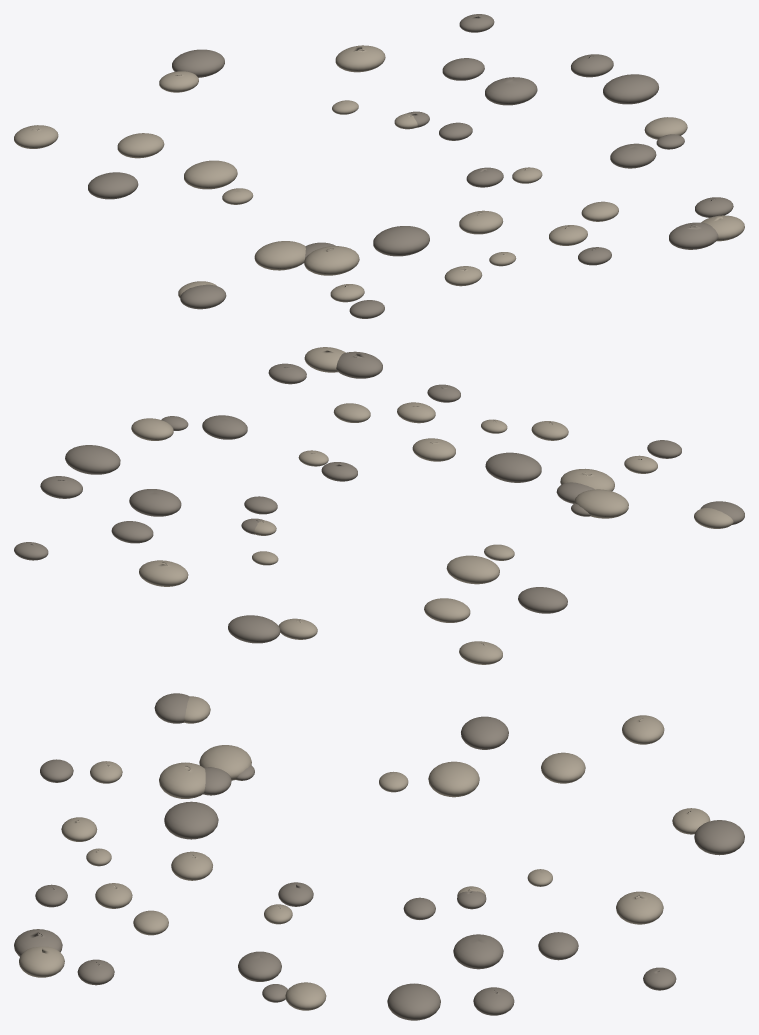
Rendered from f22-shingle-scatter.glb.
3 renders of one model, top to bottom at view 1: azimuth 30°, elevation 25°; view 2: azimuth 150°, elevation 25°; view 3: azimuth 270°, elevation 25°, orthographic. The views are drawn at different scales.
Parts seen in each view (by area): view 1: part1, part0; view 2: part1, part0; view 3: part1, part0.
Part boxes in pixels (<box>): part1: <box>88,14,733,318</box>; part0: <box>14,45,744,302</box>; part1: <box>14,351,744,643</box>; part0: <box>131,347,733,664</box>; part1: <box>14,693,744,1020</box>; part0: <box>19,696,710,1010</box>.
Size of the model in its own units: 2003 by 71.9 by 1931.
